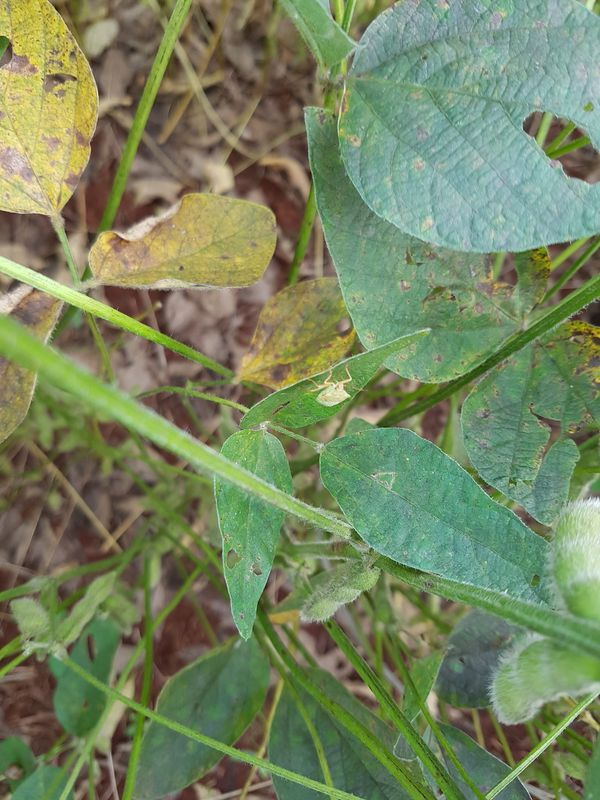Euschistus_heros_ninfa: (302, 359, 369, 420)
